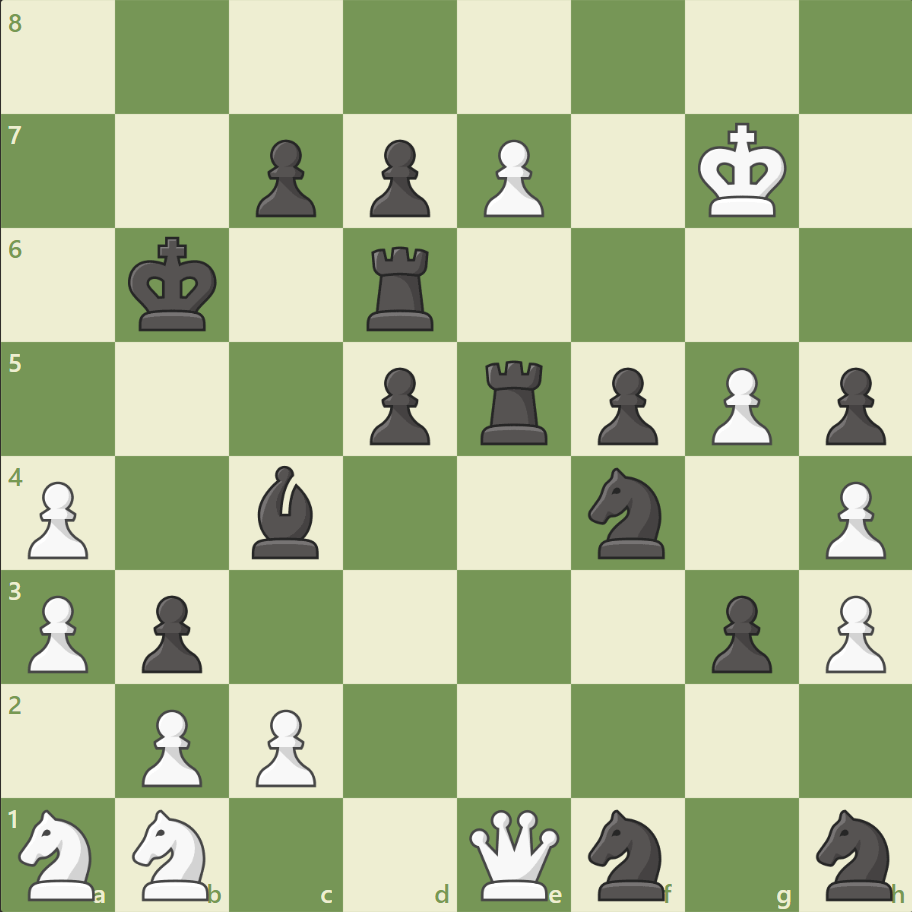K: (692, 117, 792, 225)
N: (124, 802, 222, 904), (11, 802, 108, 904)
P: (474, 132, 549, 223), (701, 359, 776, 450), (20, 473, 95, 564), (20, 586, 95, 677), (133, 700, 208, 791), (247, 700, 322, 791), (815, 473, 889, 564), (815, 586, 889, 677)
Q: (464, 804, 563, 903)
b: (244, 460, 328, 563)
k: (124, 231, 224, 339)
n: (579, 461, 676, 564), (579, 802, 676, 904), (806, 802, 903, 904)
p: (247, 132, 322, 223), (133, 586, 208, 677), (701, 586, 776, 677), (361, 132, 435, 223), (361, 359, 435, 450), (588, 359, 662, 450), (815, 359, 889, 450)
r: (473, 352, 556, 449), (360, 239, 442, 336)
